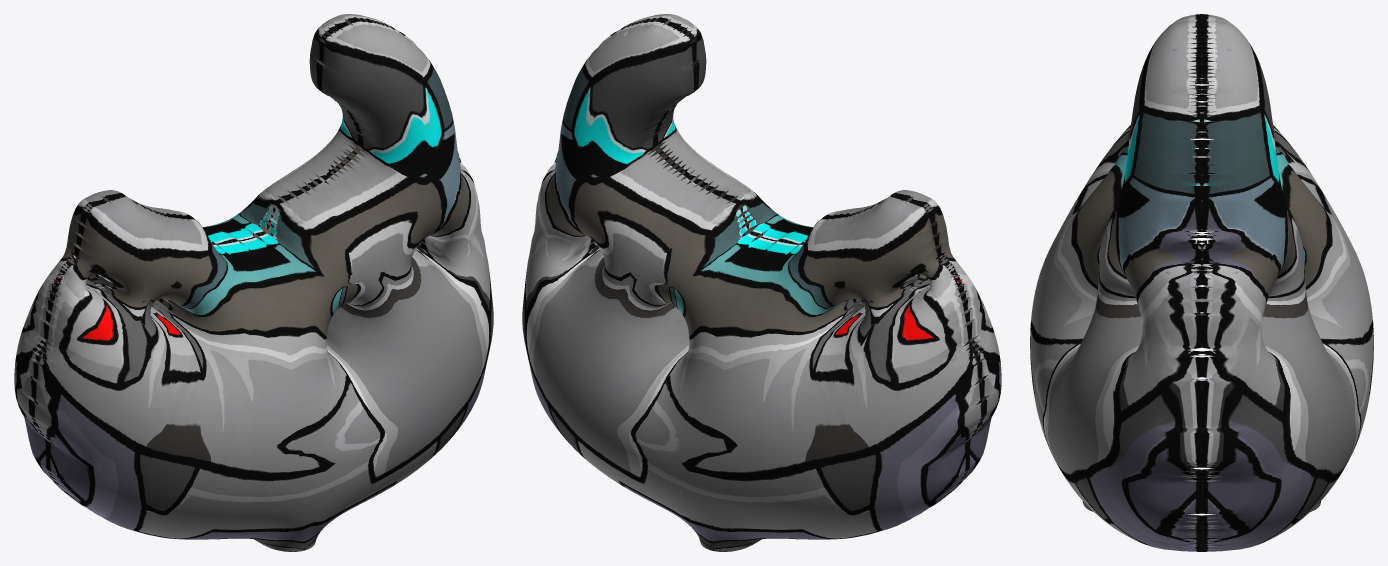
File: front_ring_machine.glb
The picture shows the model from 3 angles, left to right: view 1: azimuth 30°, elevation 25°; view 2: azimuth 150°, elevation 25°; view 3: azimuth 270°, elevation 25°; orthographic projection. The views are drawn at different scales.
Visible parts, largest first — view 1: front_ring_machine; view 2: front_ring_machine; view 3: front_ring_machine.
Part boxes in pixels (x1,y1,x2,y2): front_ring_machine: (14, 14, 493, 551); front_ring_machine: (522, 14, 1001, 551); front_ring_machine: (1030, 14, 1373, 551).
Size of the model in its own units: 0.9889 by 0.9944 by 0.5767.
1 material, 1 textured.
